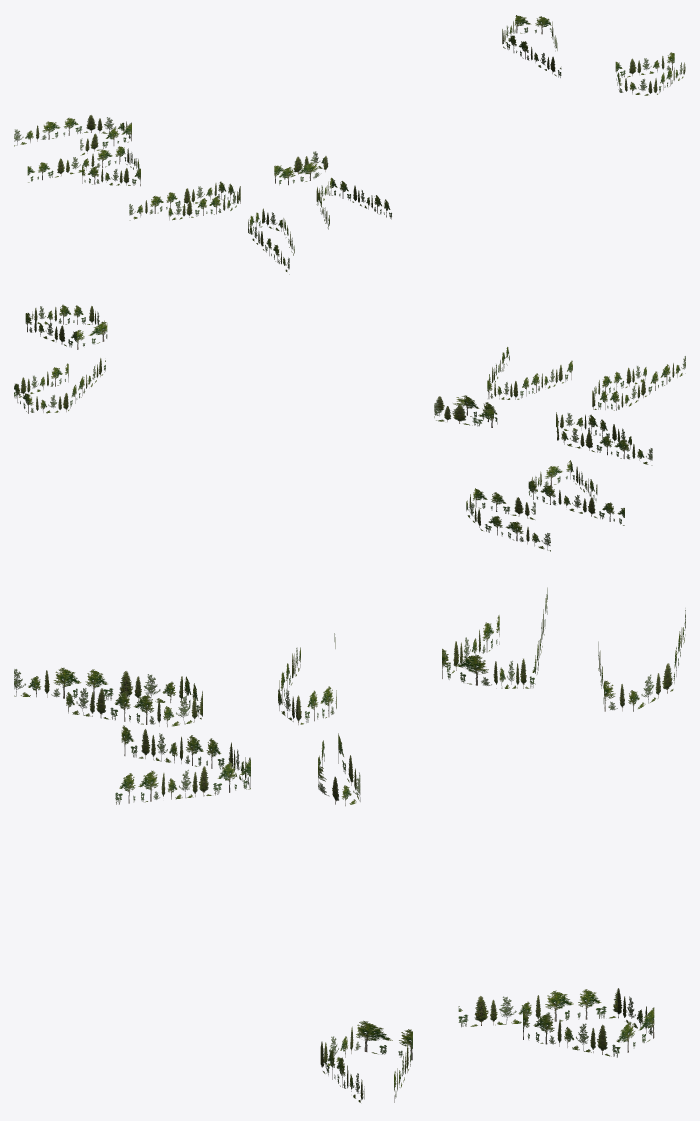
Rendered from arboles.obj.
The picture shows the model from 3 angles, top to bottom: view 1: azimuth 30°, elevation 25°; view 2: azimuth 150°, elevation 25°; view 3: azimuth 270°, elevation 25°; orthographic projection. The views are drawn at different scales.
Parts seen in each view (by area): view 1: Plano.007, Plano.006, Plano.005, Plano.011, Plano.012, Plano.009, Plano.008, Plano.010; view 2: Plano.006, Plano.007, Plano.005, Plano.011, Plano.008, Plano.012, Plano.009, Plano.010; view 3: Plano.012, Plano.008, Plano.009, Plano.006, Plano.011, Plano.005, Plano.007, Plano.010.
Part boxes in pixels (x1,y1,x2,y2): Plano.007: (129,181,240,220); Plano.006: (27,146,140,186); Plano.005: (14,115,131,155); Plano.011: (615,52,685,95); Plano.012: (502,15,561,77); Plano.009: (316,177,391,229); Plano.008: (248,208,294,274); Plano.010: (274,151,328,185); Plano.006: (528,460,624,525); Plano.007: (556,412,652,465); Plano.005: (466,488,550,551); Plano.011: (25,304,107,349); Plano.008: (592,356,685,410); Plano.012: (14,358,105,413); Plano.009: (487,347,572,399); Plano.010: (434,395,497,427); Plano.012: (458,988,654,1057); Plano.008: (14,667,202,727); Plano.009: (115,725,250,804); Plano.006: (442,587,547,688); Plano.011: (320,1020,412,1102); Plano.005: (598,608,685,711); Plano.007: (278,633,336,724); Plano.010: (318,733,360,806).
Bounding box in the file's own units: 1239 × 38.04 × 713.
1 material, 1 textured.
